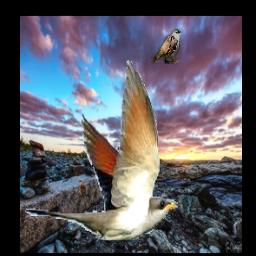Cuckoo: (25, 60, 178, 241)
Sparrow: (151, 29, 181, 64)
